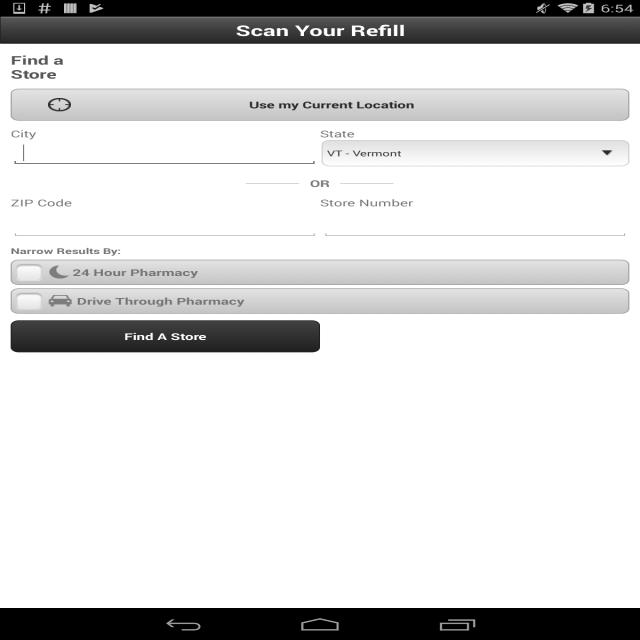Button: (11, 88, 629, 120), (11, 320, 320, 352)
CheckBox: (15, 262, 43, 282), (15, 291, 43, 311)
EditText: (11, 212, 319, 239), (321, 212, 629, 239), (11, 140, 318, 166)
ImageView: (340, 183, 394, 184), (246, 183, 299, 184)
Spinner: (322, 140, 629, 166)
TextView: (322, 144, 629, 162), (11, 127, 320, 140), (320, 127, 629, 140), (11, 196, 320, 209), (320, 196, 629, 209), (320, 330, 629, 343), (235, 20, 405, 40), (43, 295, 244, 307), (43, 266, 198, 279), (11, 52, 69, 82), (11, 246, 121, 256), (322, 167, 629, 170), (299, 177, 340, 190)
